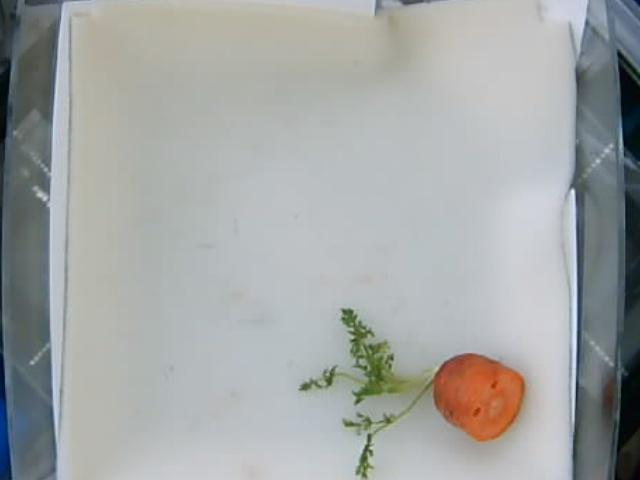Carrot: (297, 307, 526, 478)
